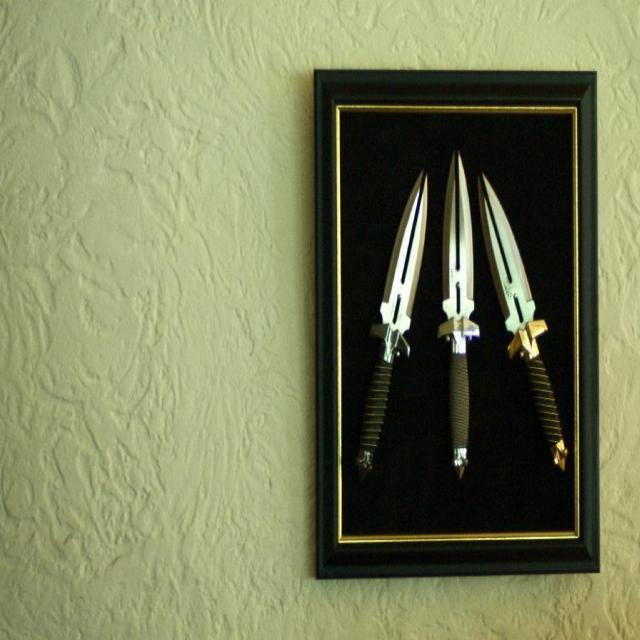Knife: (479, 174, 568, 470), (356, 172, 428, 474), (439, 152, 480, 477)
